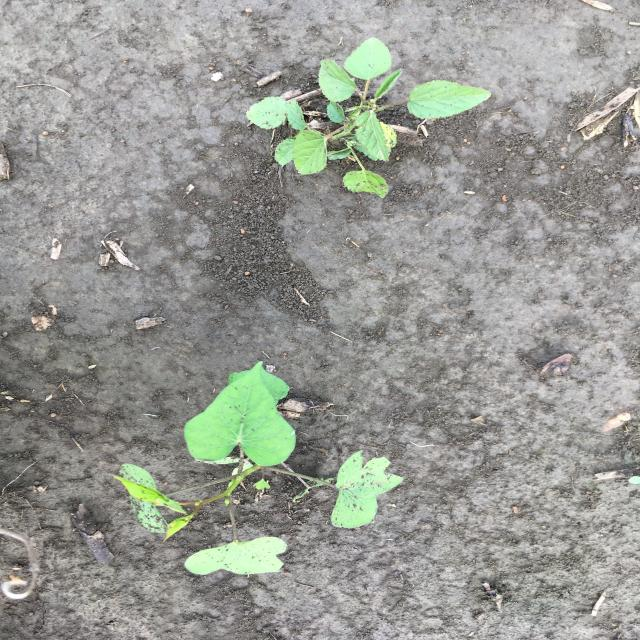MorningGlory: (108, 360, 407, 578)
PricklySida: (243, 36, 494, 198)
